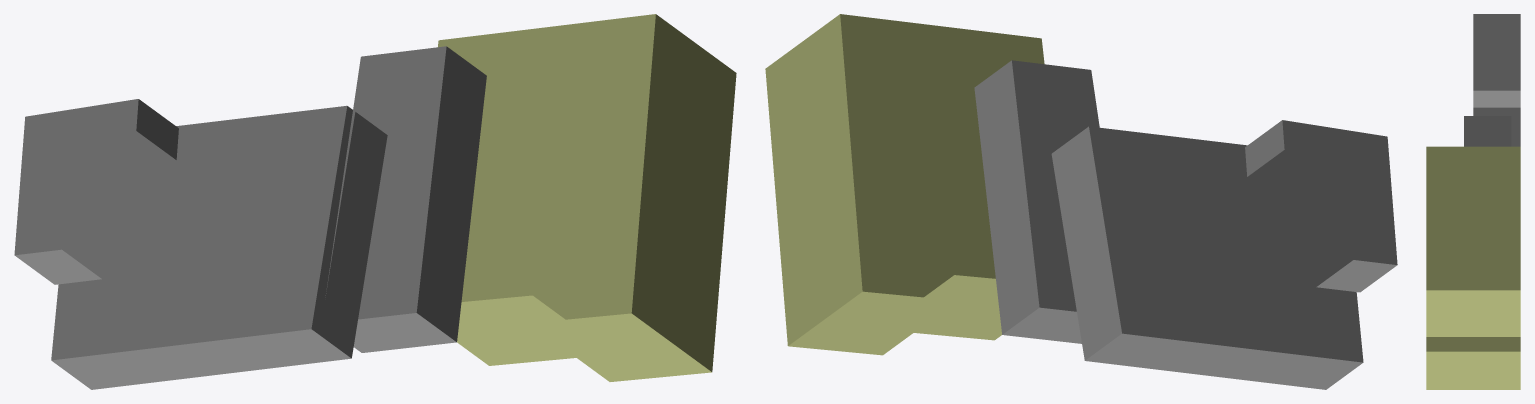
3 renders of one model, left to right at view 1: azimuth 30°, elevation 25°; view 2: azimuth 150°, elevation 25°; view 3: azimuth 270°, elevation 25°, orthographic. The views are drawn at different scales.
Parts seen in each view (by area): view 1: 0_1_0_0_2_0_1_1_1; view 2: 0_1_0_0_2_0_1_1_1; view 3: 0_1_0_0_2_0_1_1_1.
Part boxes in pixels (x1,y1,x2,y2): 0_1_0_0_2_0_1_1_1: (14,14,736,389); 0_1_0_0_2_0_1_1_1: (765,14,1397,389); 0_1_0_0_2_0_1_1_1: (1426,14,1520,389).
Bounding box in the file's own units: 27.56 × 14.15 × 6.
